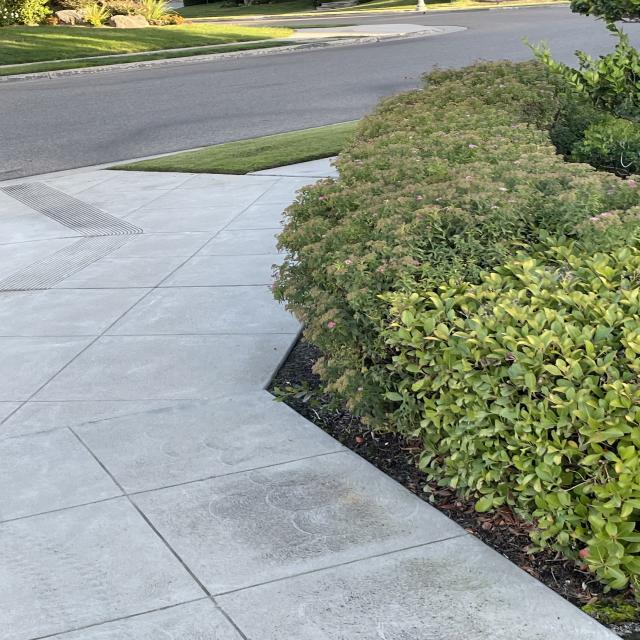walkway: (2, 524, 457, 637), (9, 412, 292, 566), (2, 302, 269, 450), (70, 242, 279, 336), (176, 172, 290, 266), (260, 382, 262, 386)
